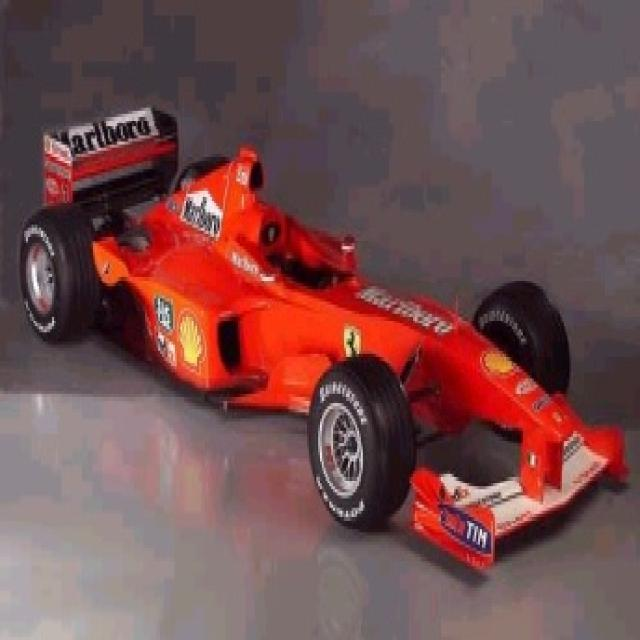car: (20, 106, 630, 577)
